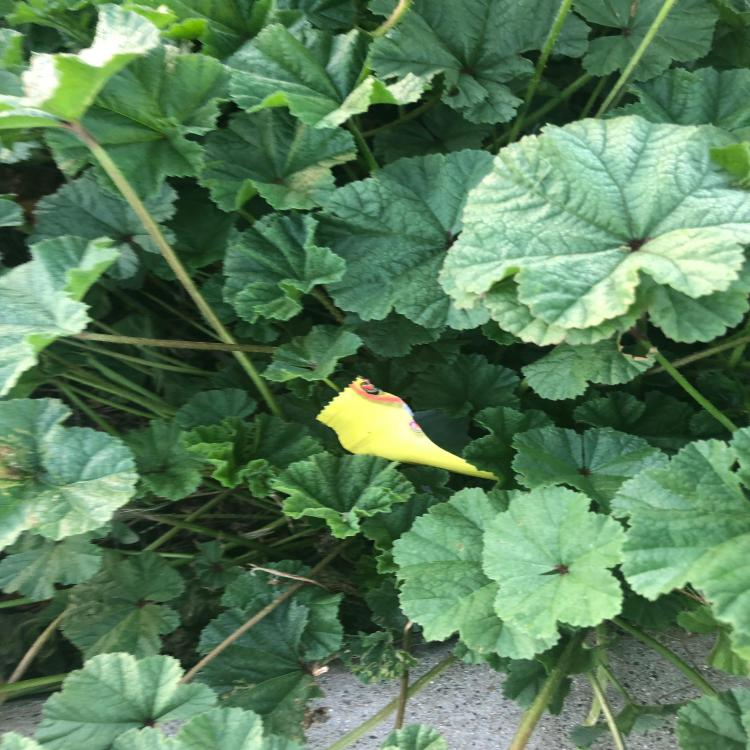Other plastic: (314, 378, 506, 481)
